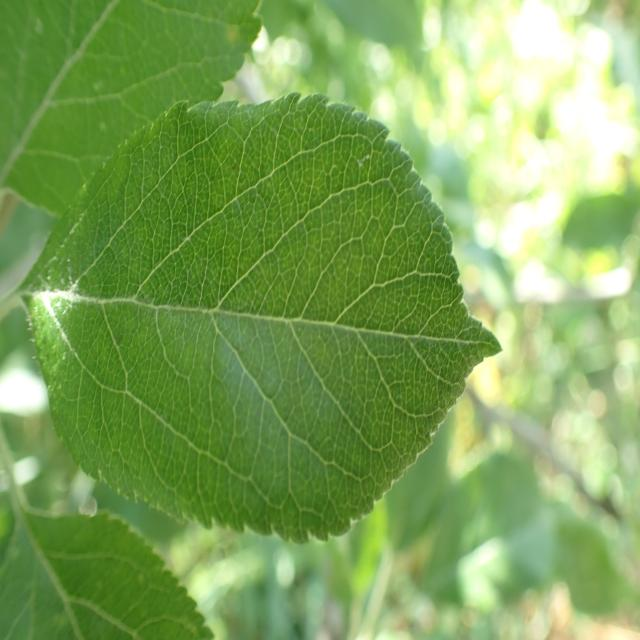healthy: (20, 91, 503, 545), (0, 0, 265, 218), (0, 508, 216, 640)
